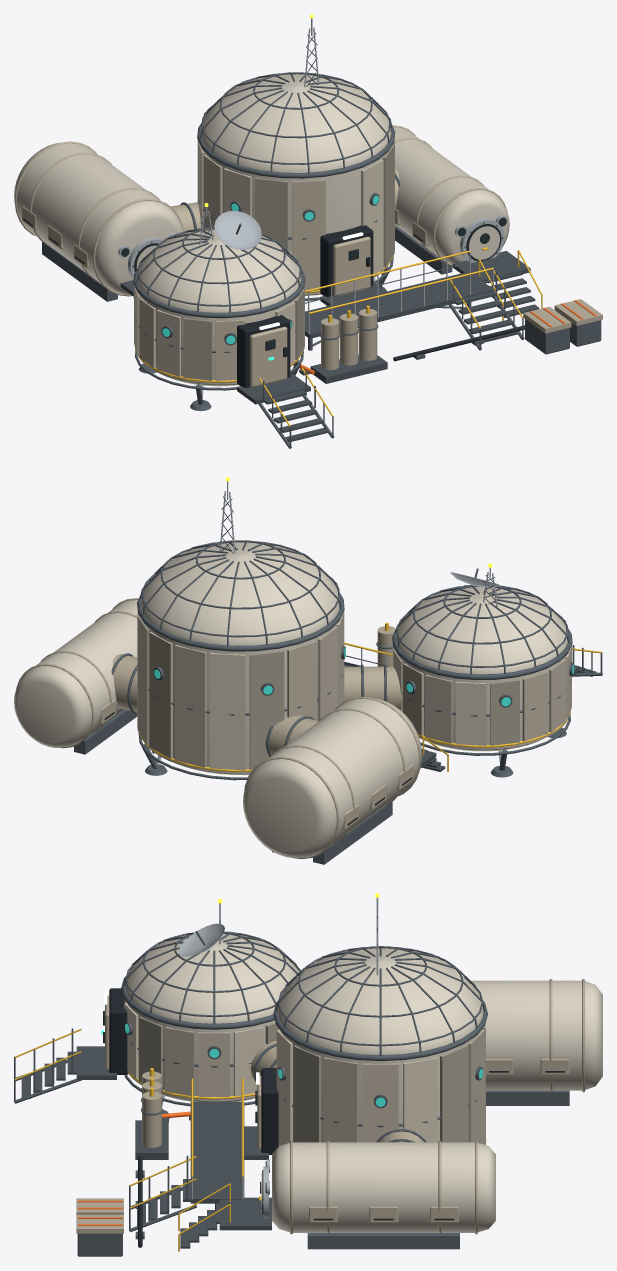
File: base-boss-habitat.glb
The picture shows the model from 3 angles, top to bottom: view 1: azimuth 30°, elevation 25°; view 2: azimuth 150°, elevation 25°; view 3: azimuth 270°, elevation 25°; orthographic projection. The views are drawn at different scales.
Visible parts, largest first — view 1: base-boss-habitat-warm-ceramic-insulation, base-boss-habitat-dark-steel, base-boss-habitat-oatmeal-thermal-blanket, base-boss-habitat-floor-grate, base-boss-habitat-insulation-tile-1, base-boss-habitat-insulation-tile-0, base-boss-habitat-insulation-tile-2, base-boss-habitat-dark-polymer, base-boss-habitat-aluminium, base-boss-habitat-insulation-tile-3, base-boss-habitat-hazard-yellow; view 2: base-boss-habitat-warm-ceramic-insulation, base-boss-habitat-dark-steel, base-boss-habitat-insulation-tile-3, base-boss-habitat-oatmeal-thermal-blanket, base-boss-habitat-insulation-tile-0, base-boss-habitat-insulation-tile-2, base-boss-habitat-insulation-tile-1, base-boss-habitat-hazard-yellow, base-boss-habitat-aluminium; view 3: base-boss-habitat-warm-ceramic-insulation, base-boss-habitat-dark-steel, base-boss-habitat-floor-grate, base-boss-habitat-oatmeal-thermal-blanket, base-boss-habitat-insulation-tile-1, base-boss-habitat-insulation-tile-0, base-boss-habitat-insulation-tile-2, base-boss-habitat-insulation-tile-3, base-boss-habitat-dark-polymer, base-boss-habitat-hazard-yellow, base-boss-habitat-aluminium, base-boss-habitat-safety-orange.
Part boxes in pixels (x1=…): base-boss-habitat-warm-ceramic-insulation: x1=14, y1=74, x2=509, y2=386; base-boss-habitat-dark-steel: x1=42, y1=32, x2=601, y2=448; base-boss-habitat-oatmeal-thermal-blanket: x1=14, y1=125, x2=602, y2=387; base-boss-habitat-floor-grate: x1=120, y1=251, x2=539, y2=442; base-boss-habitat-insulation-tile-1: x1=183, y1=144, x2=394, y2=380; base-boss-habitat-insulation-tile-0: x1=134, y1=140, x2=394, y2=380; base-boss-habitat-insulation-tile-2: x1=156, y1=159, x2=383, y2=376; base-boss-habitat-dark-polymer: x1=23, y1=218, x2=524, y2=387; base-boss-habitat-aluminium: x1=118, y1=18, x2=507, y2=397; base-boss-habitat-insulation-tile-3: x1=139, y1=154, x2=222, y2=367; base-boss-habitat-hazard-yellow: x1=135, y1=247, x2=542, y2=426; base-boss-habitat-warm-ceramic-insulation: x1=14, y1=542, x2=568, y2=857; base-boss-habitat-dark-steel: x1=74, y1=496, x2=602, y2=864; base-boss-habitat-insulation-tile-3: x1=174, y1=626, x2=566, y2=767; base-boss-habitat-oatmeal-thermal-blanket: x1=16, y1=598, x2=421, y2=859; base-boss-habitat-insulation-tile-0: x1=149, y1=631, x2=548, y2=758; base-boss-habitat-insulation-tile-2: x1=137, y1=611, x2=571, y2=770; base-boss-habitat-insulation-tile-1: x1=137, y1=616, x2=519, y2=770; base-boss-habitat-hazard-yellow: x1=139, y1=622, x2=601, y2=771; base-boss-habitat-aluminium: x1=156, y1=481, x2=502, y2=765; base-boss-habitat-warm-ceramic-insulation: x1=124, y1=933, x2=602, y2=1232; base-boss-habitat-dark-steel: x1=14, y1=914, x2=569, y2=1256; base-boss-habitat-floor-grate: x1=21, y1=1046, x2=271, y2=1248; base-boss-habitat-oatmeal-thermal-blanket: x1=76, y1=979, x2=584, y2=1234; base-boss-habitat-insulation-tile-1: x1=139, y1=1016, x2=467, y2=1142; base-boss-habitat-insulation-tile-0: x1=165, y1=1027, x2=484, y2=1144; base-boss-habitat-insulation-tile-2: x1=124, y1=1003, x2=437, y2=1146; base-boss-habitat-insulation-tile-3: x1=198, y1=1023, x2=485, y2=1144; base-boss-habitat-dark-polymer: x1=103, y1=988, x2=564, y2=1247; base-boss-habitat-hazard-yellow: x1=14, y1=1028, x2=486, y2=1251; base-boss-habitat-aluminium: x1=162, y1=897, x2=378, y2=1218; base-boss-habitat-safety-orange: x1=77, y1=1111, x2=190, y2=1225.
Bounding box in the file's own units: 15.59 × 9.93 × 18.42.
